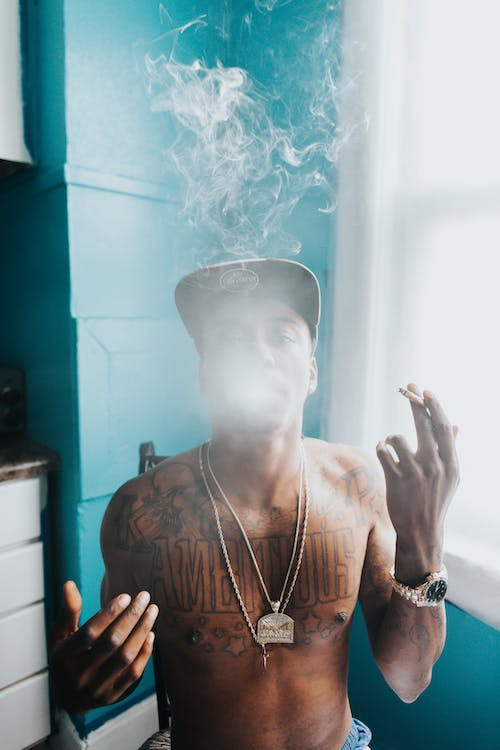cigarette: (395, 386, 429, 410)
